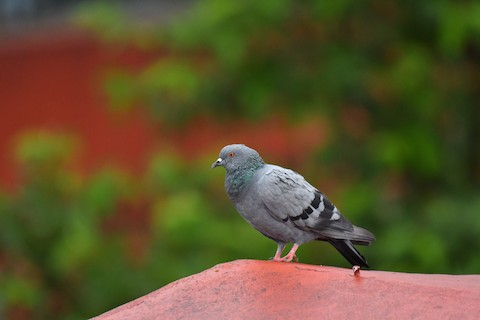pigeon: (209, 141, 380, 275)
